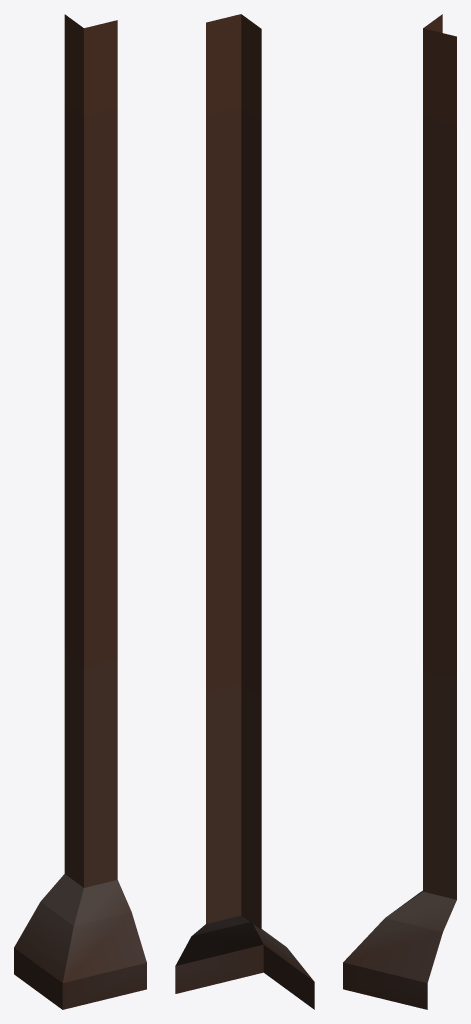
The model's file is Wall_HomeA-CornerOuterB.fbx.
The picture shows the model from 3 angles, left to right: view 1: azimuth 30°, elevation 25°; view 2: azimuth 210°, elevation 25°; view 3: azimuth 330°, elevation 25°; orthographic projection. The views are drawn at different scales.
Visible parts, largest first — view 1: Wall_HomeA-CornerOuterB; view 2: Wall_HomeA-CornerOuterB; view 3: Wall_HomeA-CornerOuterB.
Part boxes in pixels (box(x1,y1,x2,y2)): Wall_HomeA-CornerOuterB: box(14, 14, 146, 1009); Wall_HomeA-CornerOuterB: box(175, 14, 314, 1009); Wall_HomeA-CornerOuterB: box(343, 14, 456, 1009).
Bounding box in the file's own units: 25 × 269 × 25.
